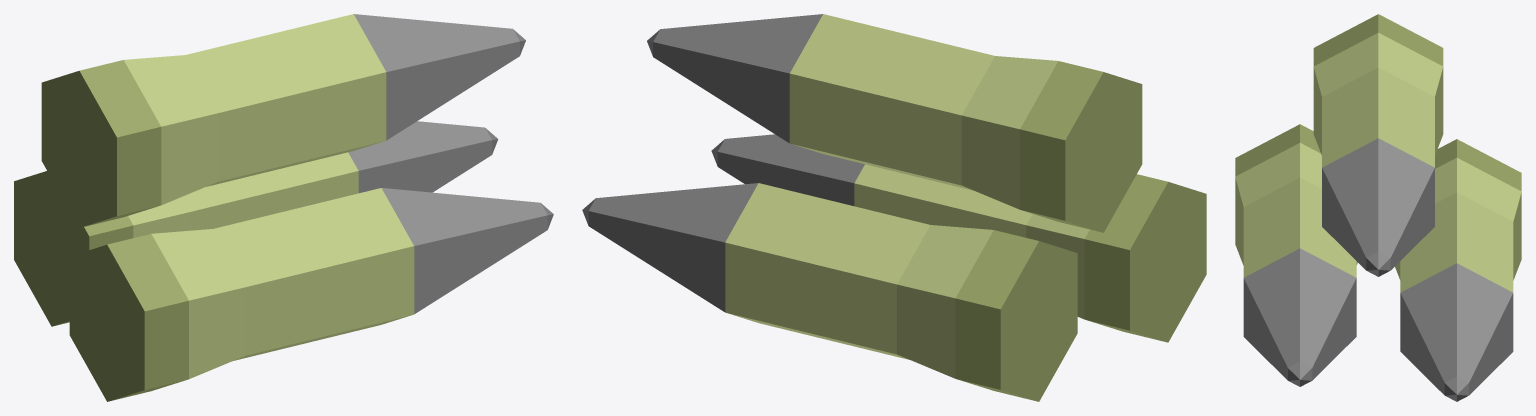
The model's file is item_shell_toxic_b.obj.
The picture shows the model from 3 angles, left to right: view 1: azimuth 30°, elevation 25°; view 2: azimuth 150°, elevation 25°; view 3: azimuth 270°, elevation 25°; orthographic projection. The views are drawn at different scales.
Size of the model in its own units: 0.7739 by 0.4505 by 0.4618.
